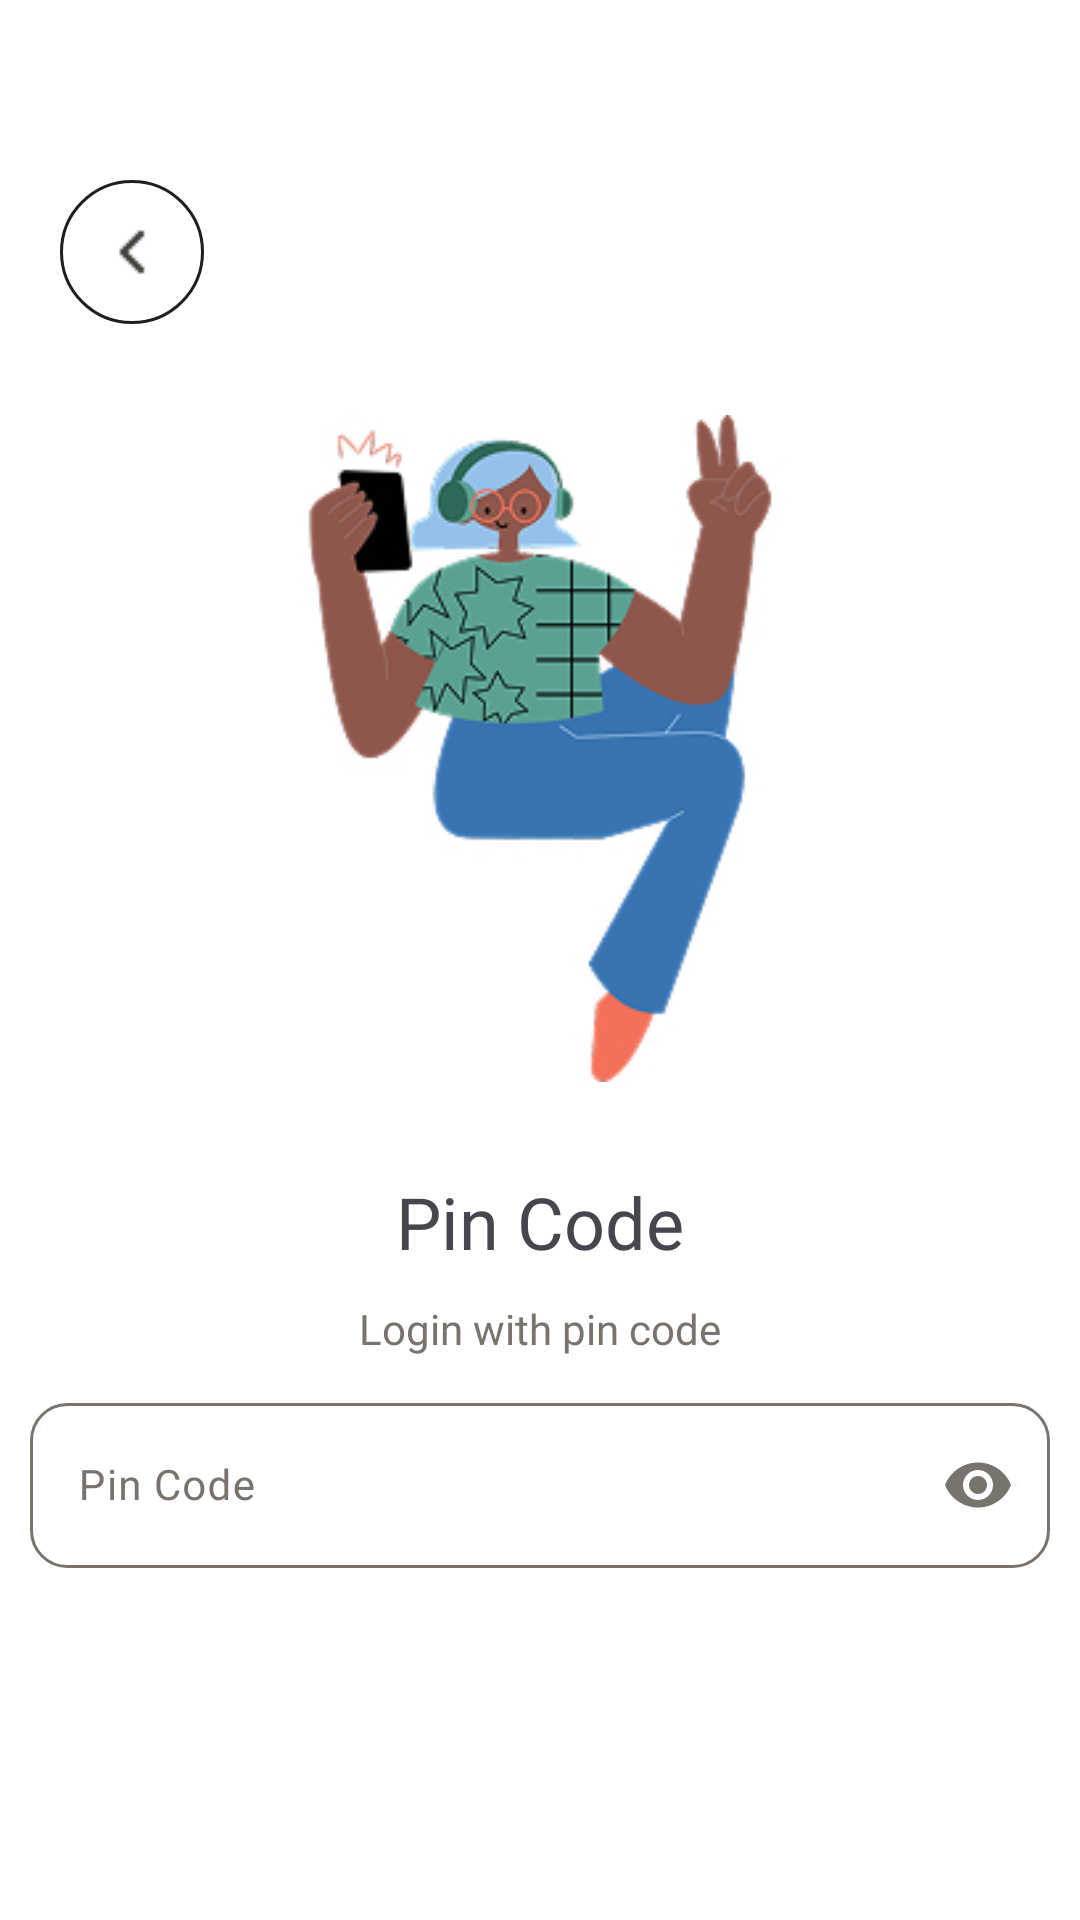

Icon bounding boxes for this 1080 × 1920 phone screenshot, format (x1, y1, x2, y2):
go back: (60, 180, 204, 324)
